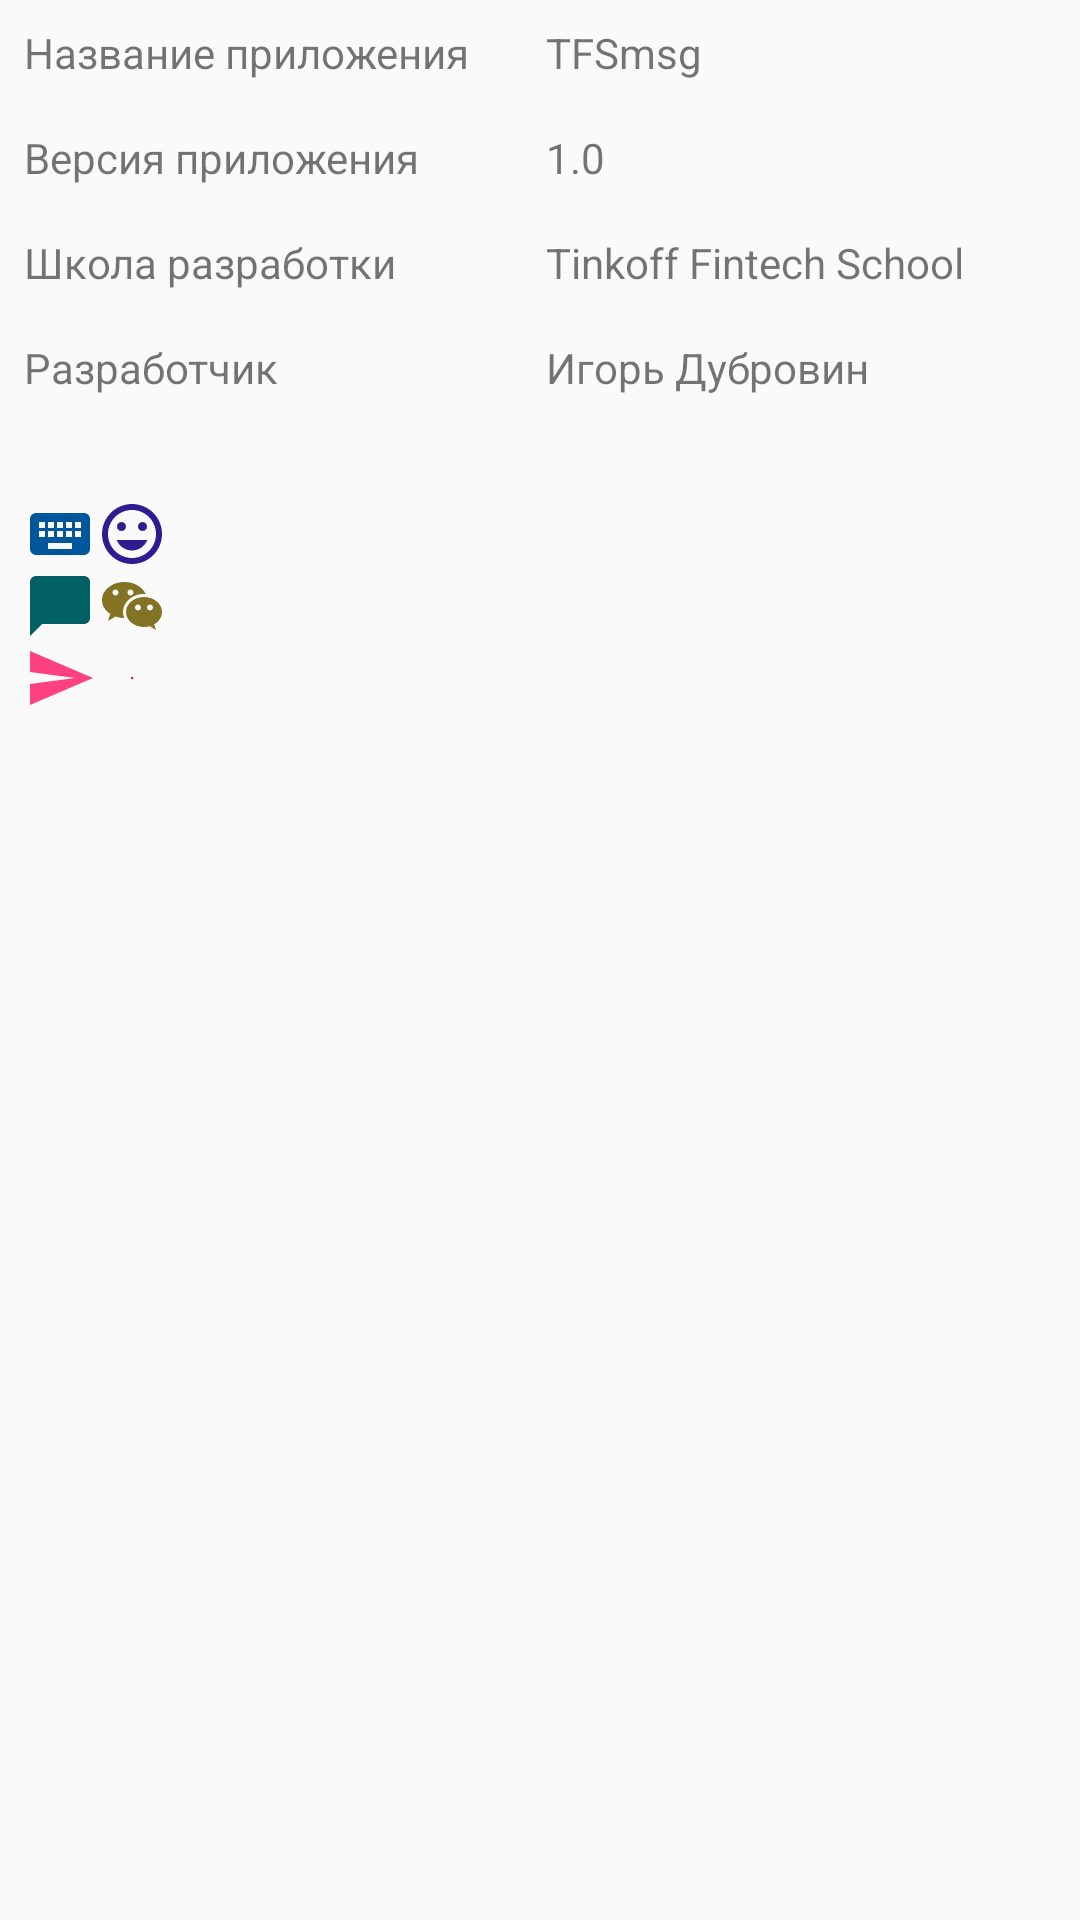

Screen size 1080 x 1920. Icon name, then its center in pixels as (x=x, y=y):
avd anim chat: (x=60, y=606)
avd anim emoji: (x=132, y=534)
avd anim keyboard: (x=60, y=534)
avd anim send: (x=61, y=678)
avd mess: (x=132, y=606)
